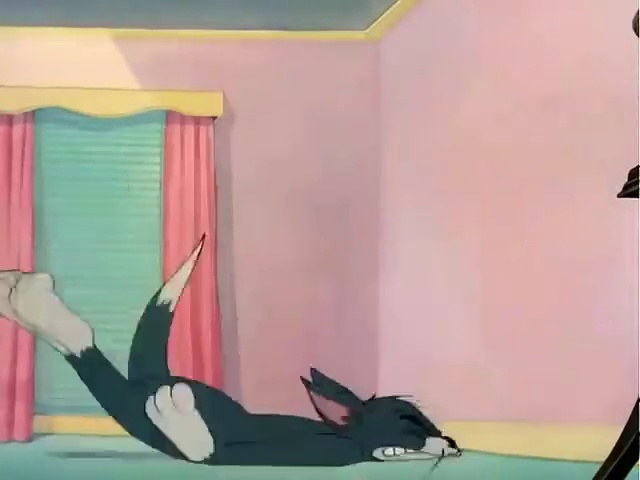tom: (0, 180, 475, 472)
